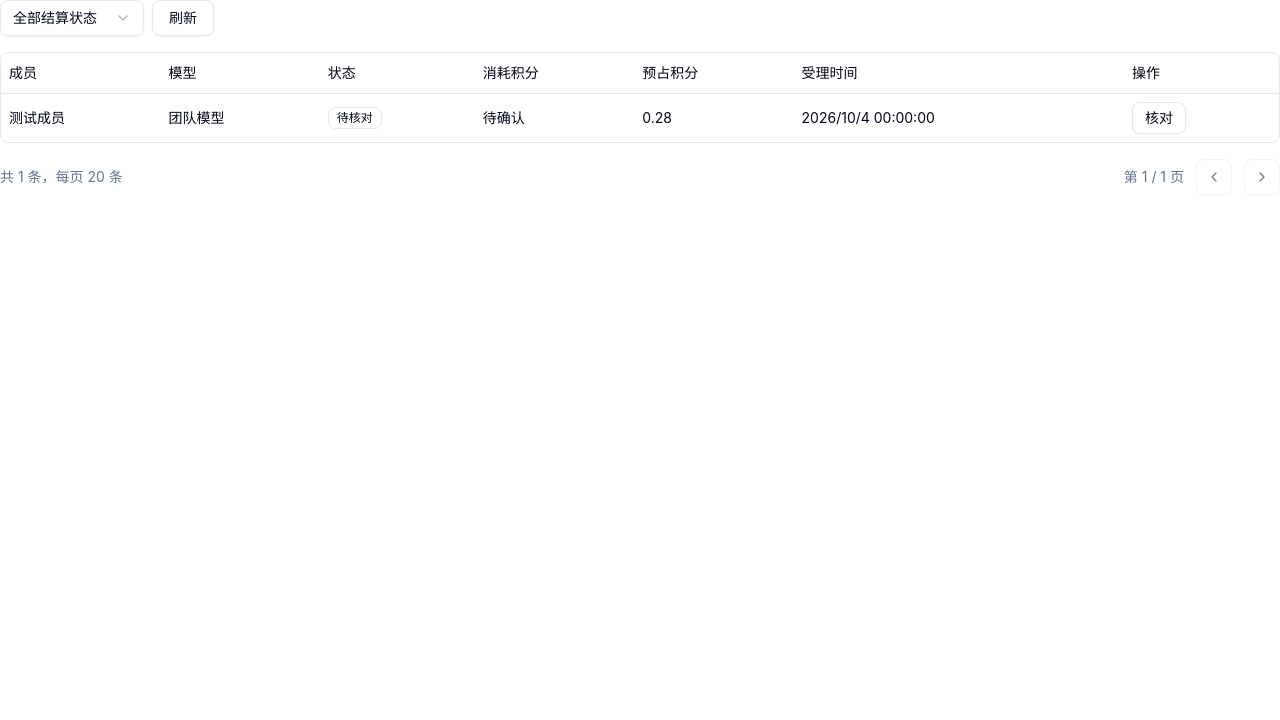
Test: does not send a reconciliation if its recovery id cannot be stored
Click the button "核对". click: click(1159, 118)
box: [1132,102,1186,134]
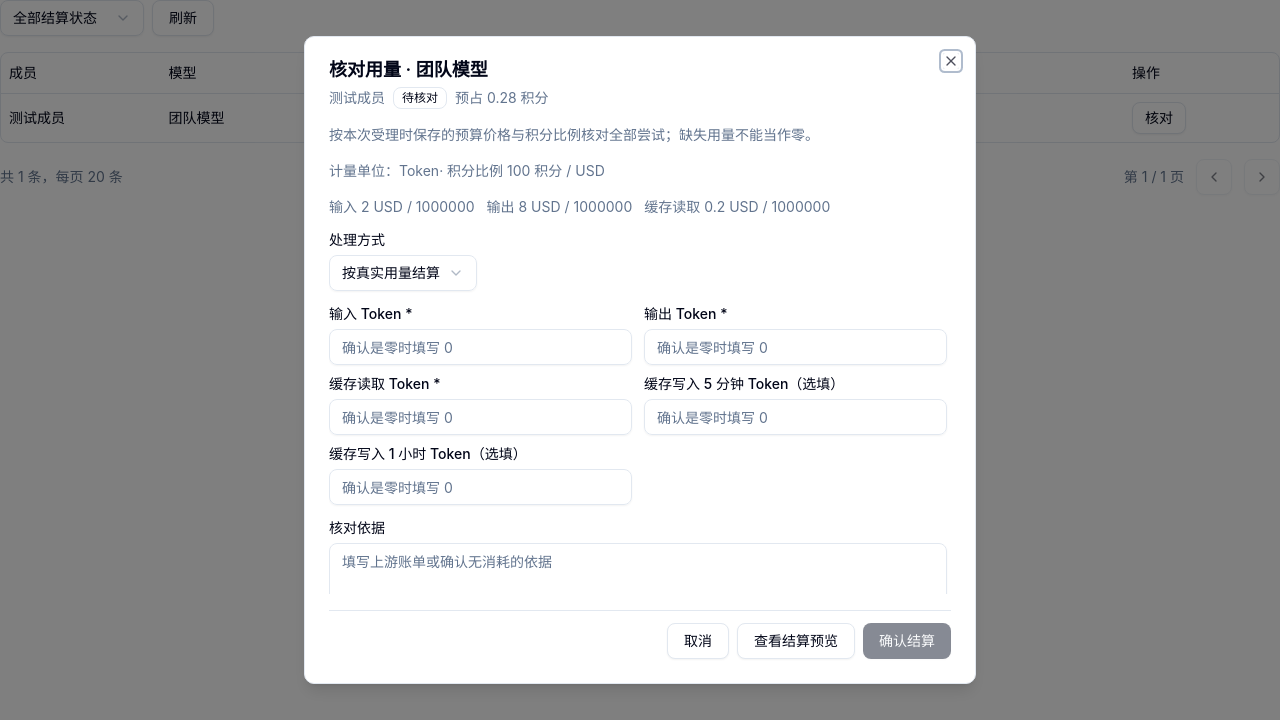
Check: the text "计量单位：Token· 积分比例 100 积分 / USD" is shown, box [329,162,605,179]
Type "核对供应商账单" into the text box labelled "核对依据". click: (638, 575)
box: [329,543,947,607]
Type "1" into the field labelled "输入 Token *". click: (480, 347)
box: [329,329,632,365]
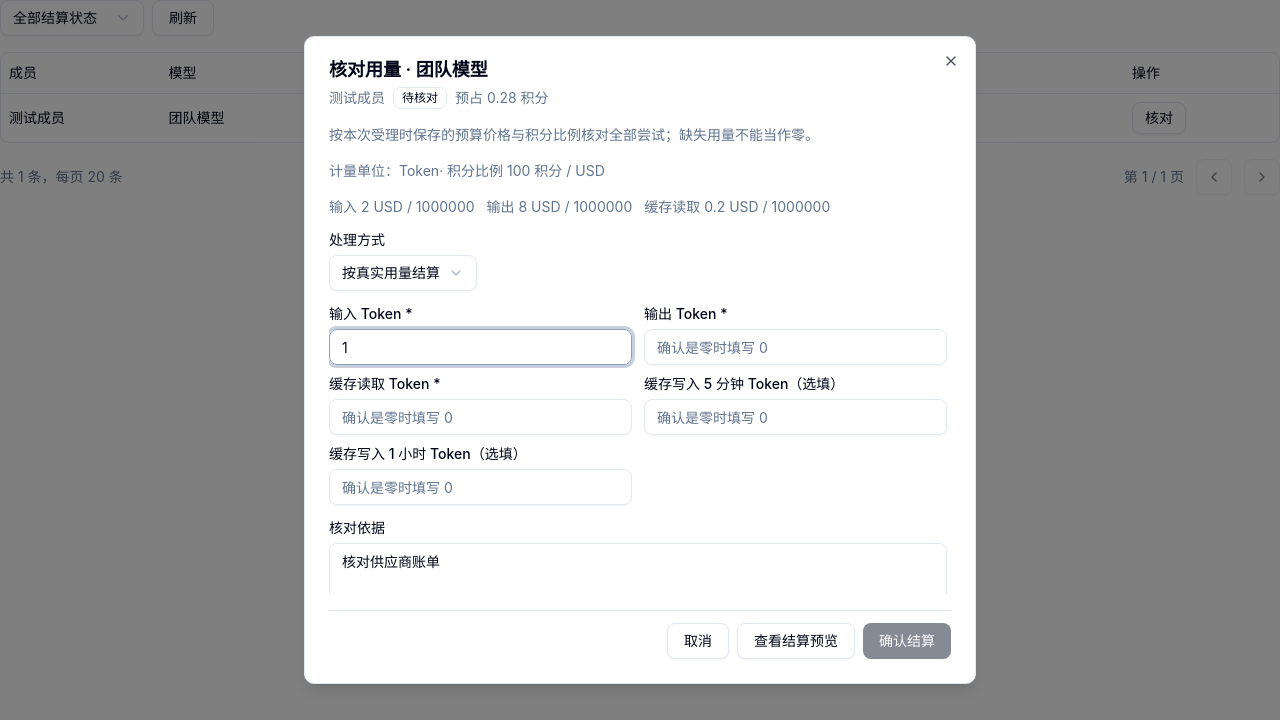
Type "0" into the field labelled "输出 Token *". click: (796, 347)
box: [644,329,947,365]
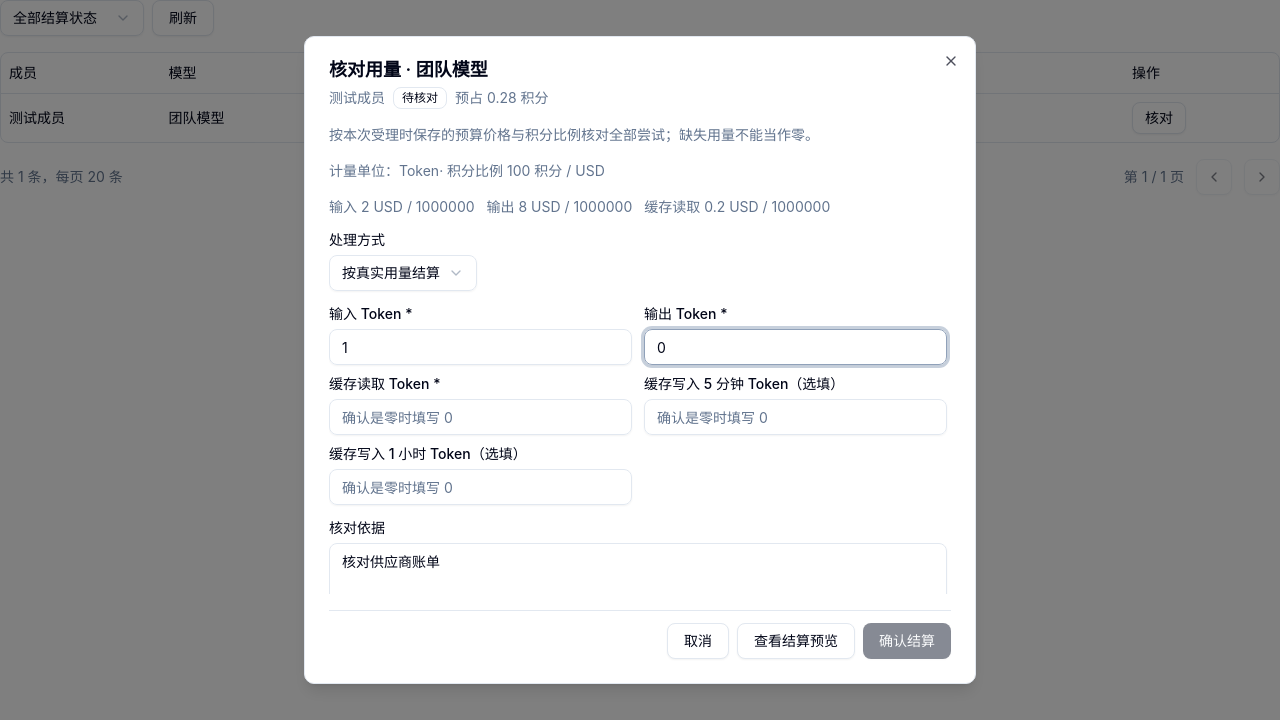
Type "0" into the field labelled "缓存读取 Token *". click: (480, 417)
box: [329,399,632,435]
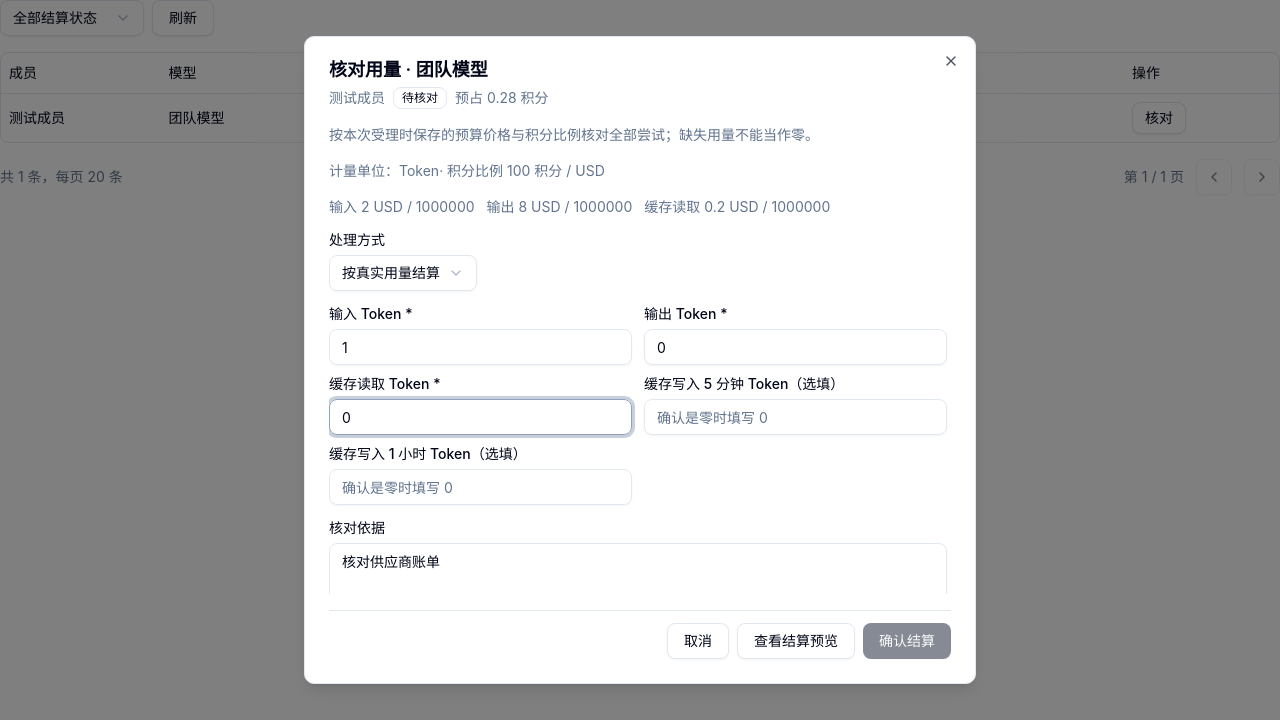
Click the button "查看结算预览". click: click(796, 641)
box: [737,623,855,659]
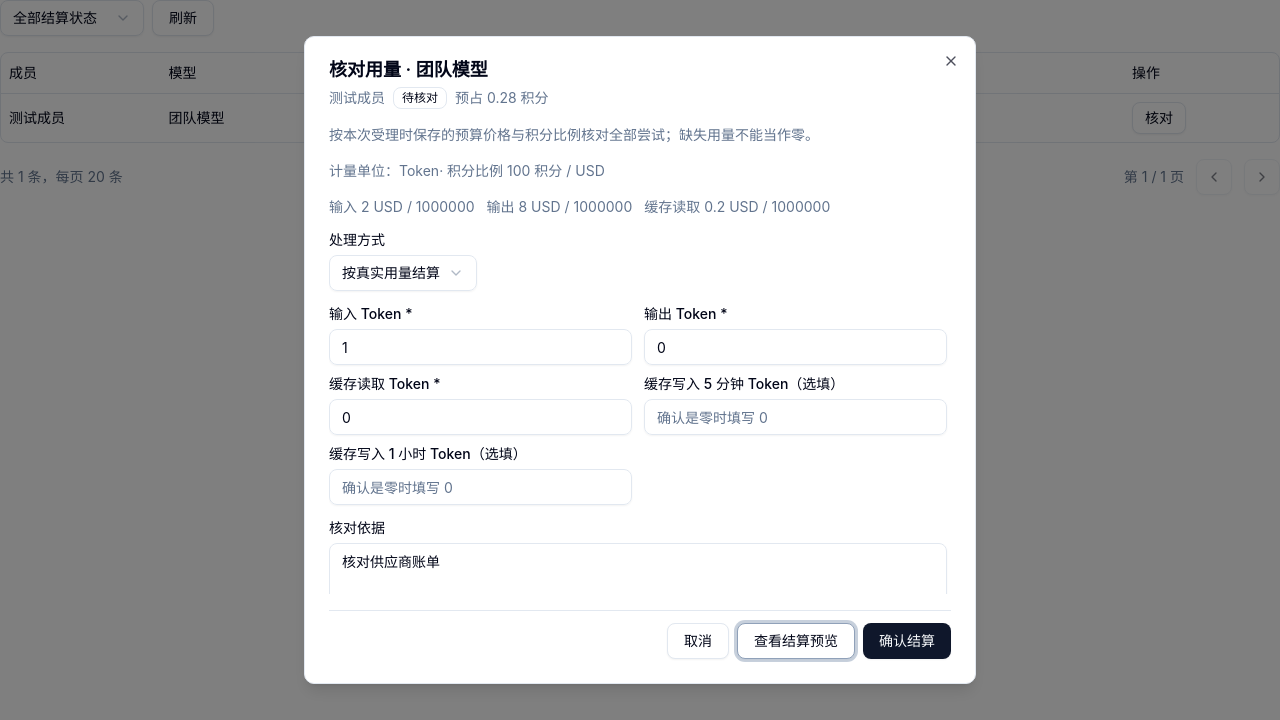
Click the button "确认结算". click: click(907, 641)
box: [863,623,951,659]
(page scrolled)
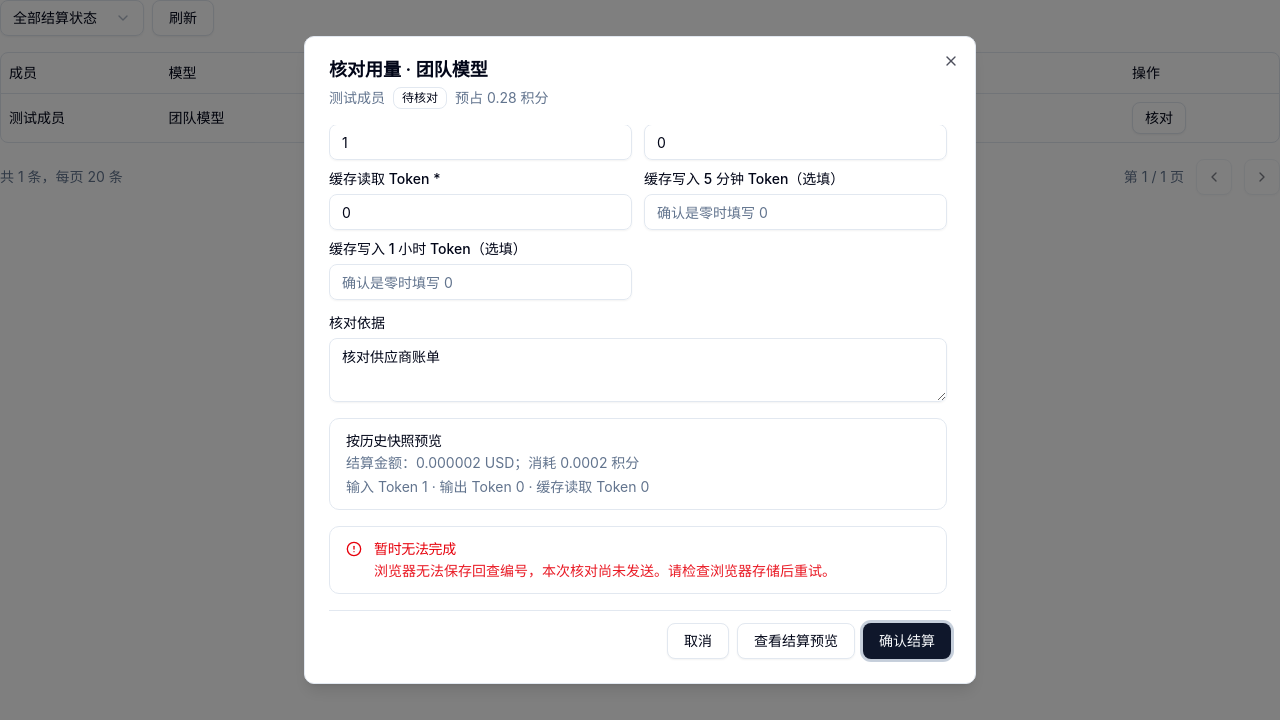
Check: the text "浏览器无法保存回查编号，本次核对尚未发送。请检查浏览器存储后重试。" is shown, box [374,561,836,581]
